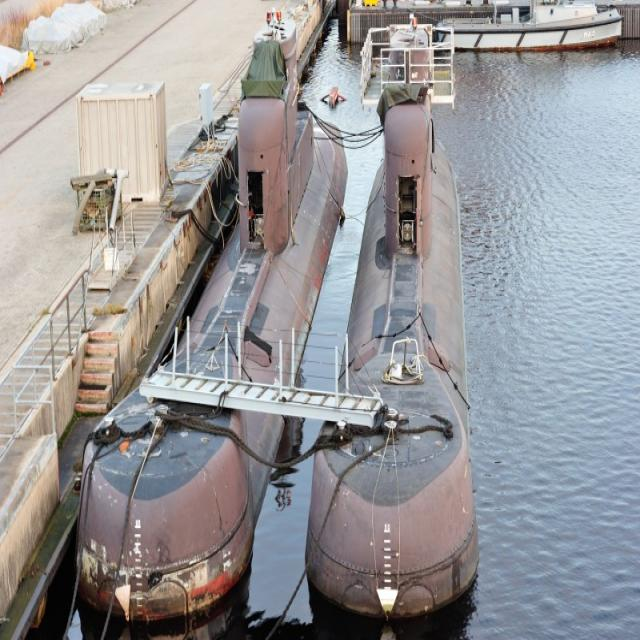submarine: (76, 18, 350, 616), (303, 30, 483, 614)
